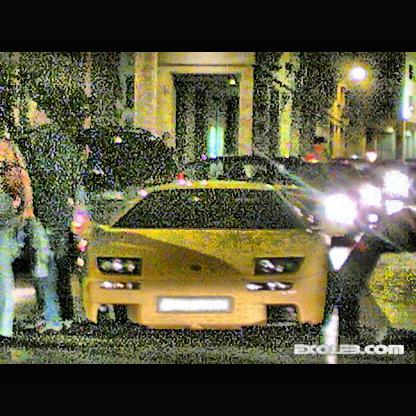Lamborghini Diablo Coupe 2001: (81, 181, 334, 338)
